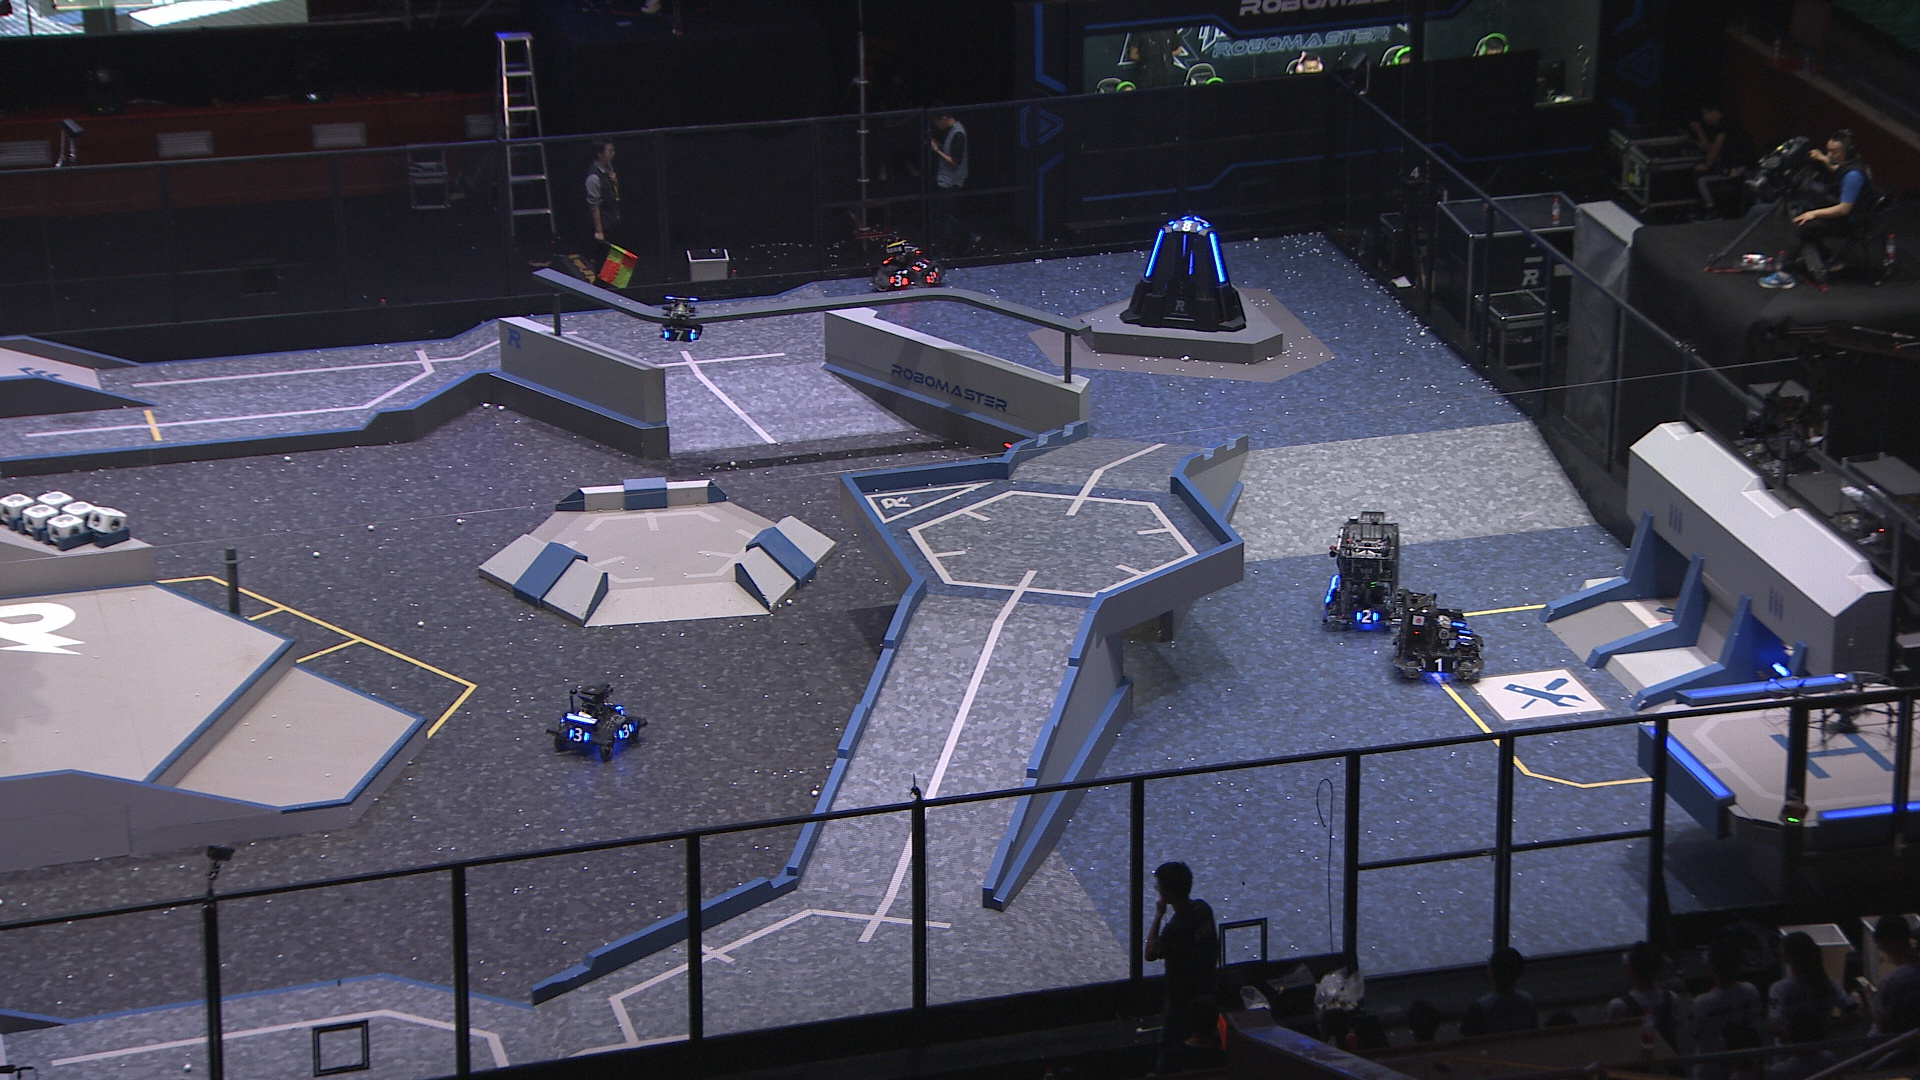armor: (1143, 225, 1167, 281), (1209, 232, 1229, 284), (1422, 655, 1458, 673), (1354, 607, 1381, 626), (566, 723, 589, 742), (662, 328, 698, 342), (1172, 219, 1204, 233), (1455, 626, 1472, 647), (615, 723, 636, 738), (911, 256, 932, 272), (887, 273, 910, 287), (922, 270, 939, 285), (1182, 232, 1189, 258)
base: (1116, 215, 1249, 332)
car: (1316, 510, 1410, 632), (1390, 585, 1484, 680), (546, 680, 650, 761), (869, 237, 948, 295)
watcher: (661, 295, 702, 342)
